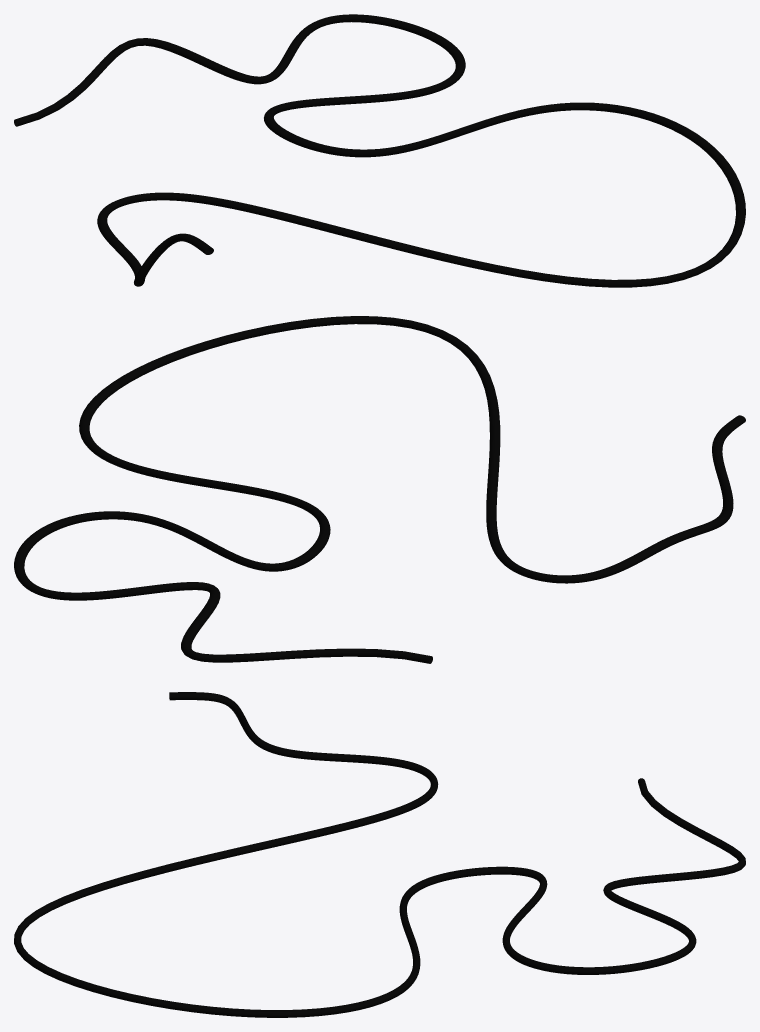
The model's file is cable.glb.
The picture shows the model from 3 angles, top to bottom: view 1: azimuth 30°, elevation 25°; view 2: azimuth 150°, elevation 25°; view 3: azimuth 270°, elevation 25°; orthographic projection. The views are drawn at different scales.
Parts seen in each view (by area): view 1: cable; view 2: cable; view 3: cable.
Part boxes in pixels (x1=…): cable: x1=14, y1=14, x2=745, y2=287; cable: x1=14, y1=316, x2=745, y2=663; cable: x1=14, y1=692, x2=745, y2=1017.
Bounding box in the file's own units: 9.62 × 1.11 × 10.86.
1 material, 1 textured.
